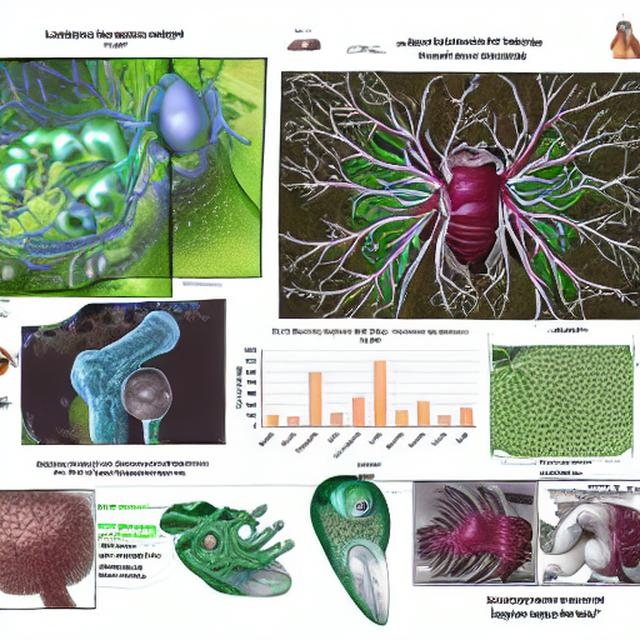Graph: (231, 322, 482, 473)
